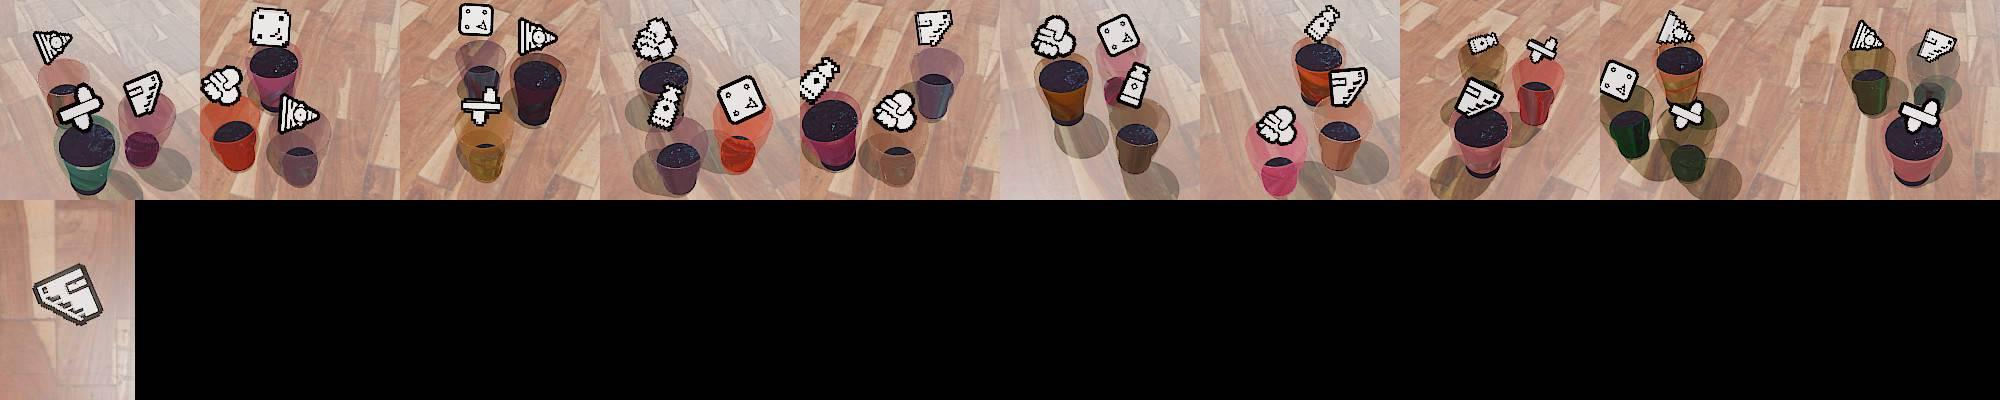icon: (32, 262, 105, 327), (716, 74, 767, 124), (56, 82, 105, 131), (798, 55, 841, 105), (632, 16, 678, 62), (1032, 14, 1076, 61), (1457, 75, 1506, 117), (1096, 14, 1141, 59), (872, 89, 917, 131), (122, 70, 163, 116), (1598, 58, 1640, 101), (200, 65, 243, 107), (459, 86, 505, 125), (250, 7, 293, 48), (1328, 65, 1368, 109), (278, 93, 321, 133), (647, 83, 684, 129), (1257, 103, 1298, 144), (518, 17, 560, 56), (1897, 97, 1940, 135), (1118, 61, 1152, 108), (1302, 4, 1340, 45), (914, 9, 952, 49), (1915, 28, 1956, 64), (32, 29, 73, 65), (1657, 9, 1695, 46), (459, 3, 495, 38), (1667, 98, 1704, 129), (1850, 19, 1884, 51), (1525, 35, 1559, 64), (1467, 32, 1500, 55)
